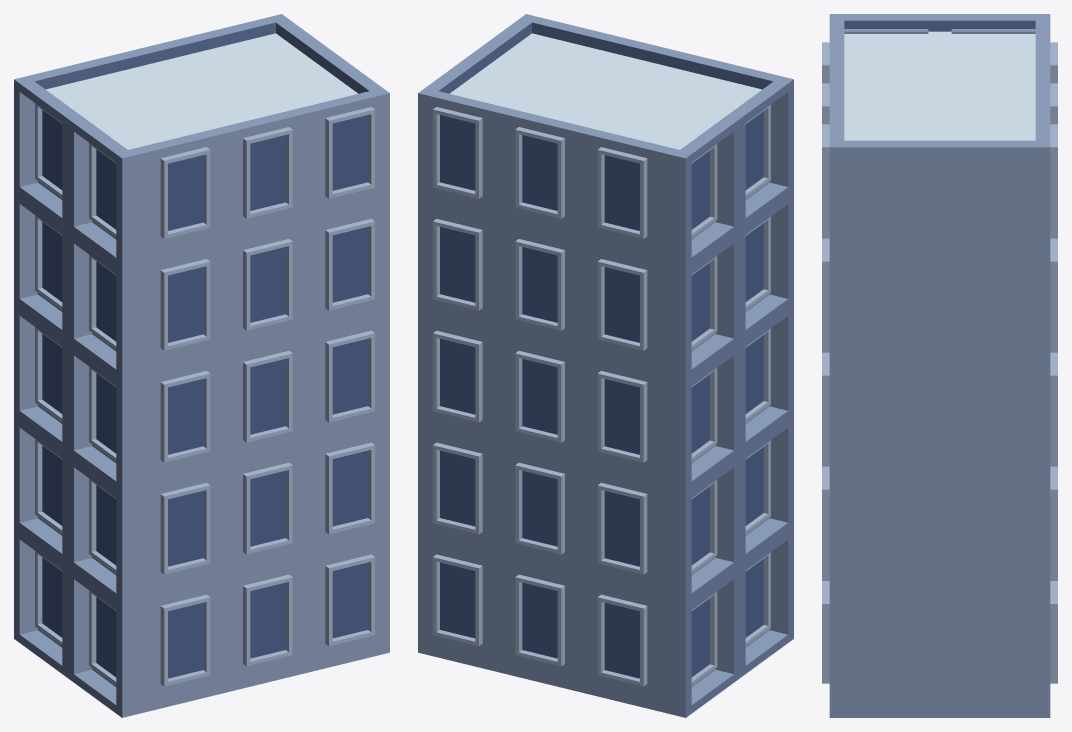
The model's file is singleHome.fbx.
3 views of the same model, side by side, from view 1: azimuth 30°, elevation 25°; view 2: azimuth 150°, elevation 25°; view 3: azimuth 270°, elevation 25° (orthographic). The views are drawn at different scales.
Visible parts, largest first — view 1: Bulding Cute.002; view 2: Bulding Cute.002; view 3: Bulding Cute.002.
Boxes of the visible parts, left/top/right/bottom form: Bulding Cute.002: left=14, top=14, right=389, bottom=717; Bulding Cute.002: left=418, top=14, right=793, bottom=717; Bulding Cute.002: left=822, top=14, right=1057, bottom=717.
Bounding box in the file's own units: 134 × 268 × 100.
